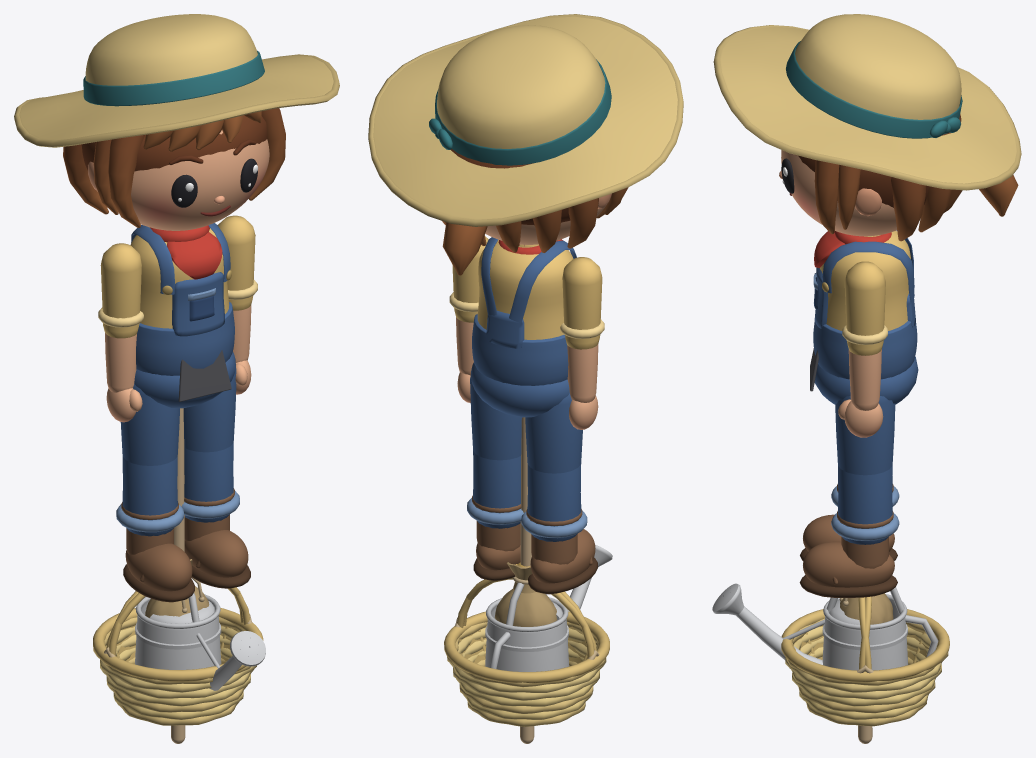
File: character.glb
3 views of the same model, side by side, from view 1: azimuth 30°, elevation 25°; view 2: azimuth 150°, elevation 25°; view 3: azimuth 270°, elevation 25° (orthographic). The views are drawn at different scales.
Parts seen in each view (by area): view 1: hat, head, torso, tool_basket, tool_watering_can, foot_r, foot_l, shin_r, upper_arm_r, shin_l, thigh_r, tool_hoe (+7 smaller); view 2: hat, torso, tool_basket, head, tool_watering_can, shin_r, foot_r, upper_arm_r, thigh_r, shin_l, hips, thigh_l (+7 smaller); view 3: hat, tool_basket, head, torso, tool_watering_can, foot_l, shin_l, upper_arm_l, thigh_l, hips, forearm_l, hand_l (+2 smaller).
Boxes of the visible parts, <box> form: hat: <box>14,14,339,147</box>; head: <box>63,108,285,230</box>; torso: <box>130,223,234,375</box>; tool_basket: <box>93,587,263,725</box>; tool_watering_can: <box>135,593,265,690</box>; foot_r: <box>121,502,194,602</box>; foot_l: <box>184,488,250,588</box>; shin_r: <box>116,457,183,536</box>; upper_arm_r: <box>98,243,143,338</box>; shin_l: <box>181,443,239,522</box>; thigh_r: <box>120,383,179,465</box>; tool_hoe: <box>171,350,231,743</box>; hat: <box>368,14,683,226</box>; torso: <box>472,237,576,385</box>; tool_basket: <box>444,578,609,726</box>; head: <box>442,149,628,275</box>; tool_watering_can: <box>485,545,612,671</box>; shin_r: <box>521,464,587,541</box>; foot_r: <box>526,509,597,594</box>; upper_arm_r: <box>560,257,604,349</box>; thigh_r: <box>525,393,582,473</box>; shin_l: <box>467,451,523,528</box>; hips: <box>471,362,569,417</box>; thigh_l: <box>470,375,521,460</box>; hat: <box>713,14,1021,190</box>; tool_basket: <box>781,596,949,726</box>; head: <box>779,114,1018,241</box>; torso: <box>813,230,917,379</box>; tool_watering_can: <box>712,583,938,670</box>; foot_l: <box>799,511,897,597</box>; shin_l: <box>831,466,899,544</box>; upper_arm_l: <box>842,261,887,355</box>; thigh_l: <box>835,396,895,475</box>; hips: <box>814,356,918,404</box>; forearm_l: <box>848,349,881,410</box>; hand_l: <box>838,399,883,437</box>.
Bounding box in the file's own units: 0.8302 × 2.02 × 0.7916.
